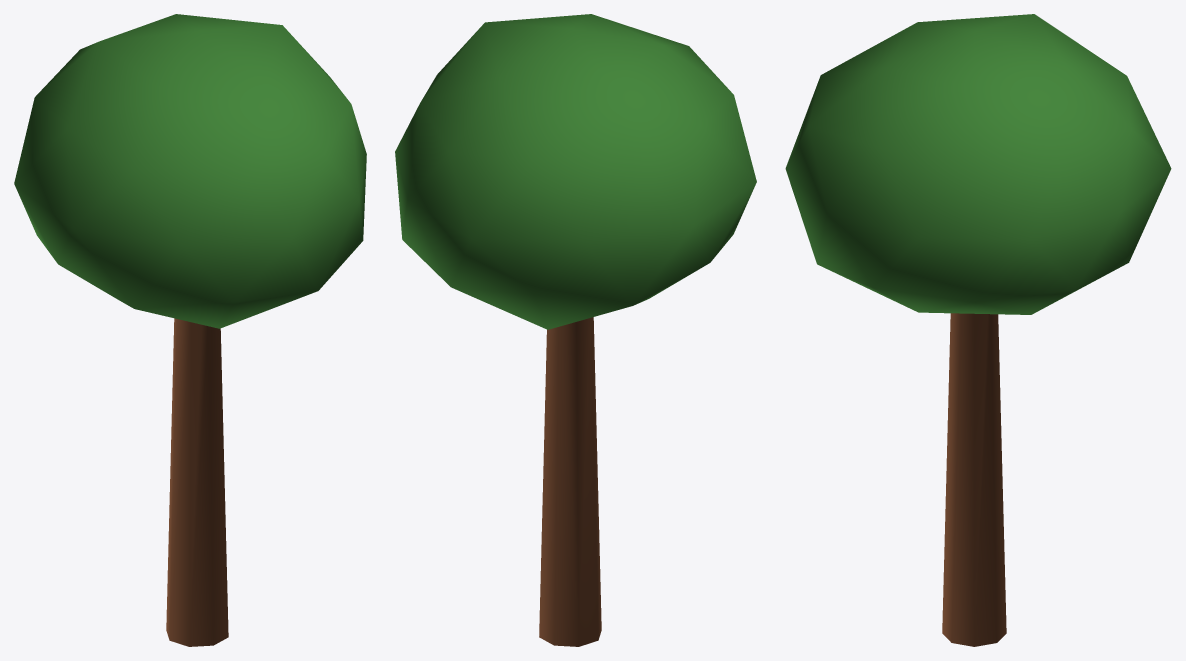
File: nature_leaf_tree.glb
The picture shows the model from 3 angles, left to right: view 1: azimuth 30°, elevation 25°; view 2: azimuth 150°, elevation 25°; view 3: azimuth 270°, elevation 25°; orthographic projection.
Visible parts, largest first — view 1: nature_leaf_tree; view 2: nature_leaf_tree; view 3: nature_leaf_tree.
Boxes of the visible parts, bbox=[...] form: nature_leaf_tree: bbox=[14, 14, 366, 646]; nature_leaf_tree: bbox=[395, 14, 756, 646]; nature_leaf_tree: bbox=[785, 14, 1171, 646].
Size of the model in its own units: 0.9162 by 1.75 by 1.02.
